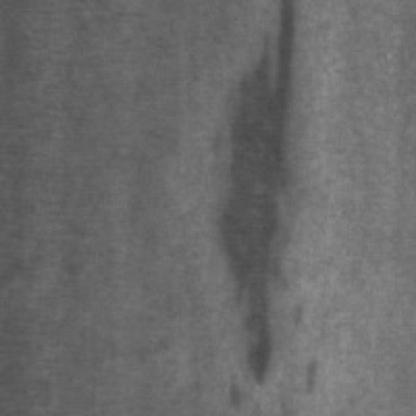inclusion: (218, 4, 308, 395), (300, 349, 332, 408)
